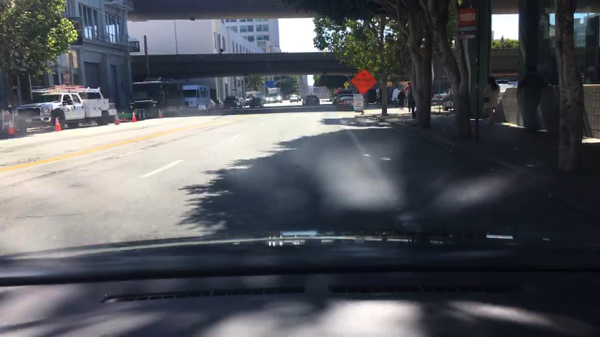bus: (126, 79, 188, 111)
car: (430, 90, 450, 106), (442, 88, 455, 111), (223, 95, 240, 110), (301, 96, 320, 109), (339, 94, 356, 108), (247, 98, 264, 110), (211, 96, 226, 109), (330, 93, 343, 105), (288, 94, 300, 104), (495, 77, 508, 86), (263, 94, 274, 104), (507, 80, 519, 88), (274, 95, 281, 102), (298, 95, 302, 101)
person: (481, 76, 500, 126), (405, 80, 414, 110), (407, 89, 415, 114), (391, 86, 400, 108)
traffic light: (388, 81, 394, 88)
traffic sign: (350, 67, 375, 96), (455, 25, 478, 39), (458, 10, 478, 26), (352, 93, 363, 111), (62, 72, 72, 82), (333, 87, 342, 94), (344, 81, 350, 90)
truck: (10, 83, 118, 132), (181, 84, 214, 113), (206, 97, 218, 110), (243, 90, 261, 98), (266, 88, 280, 96), (237, 96, 246, 106)
